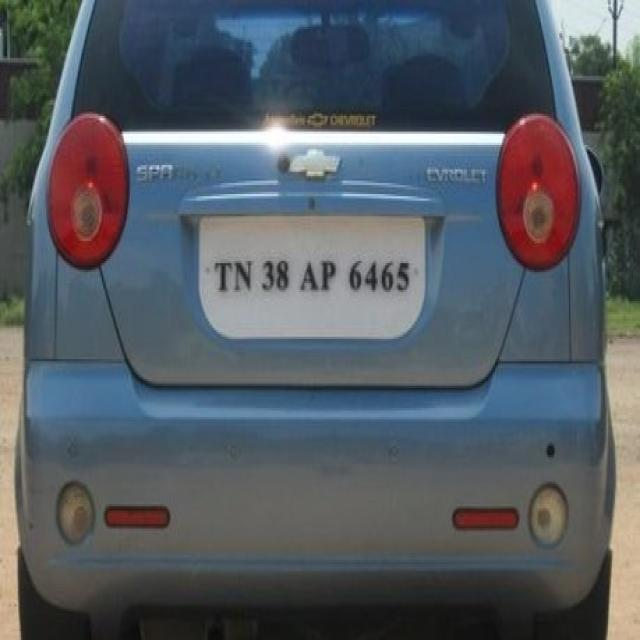number_plate: (200, 208, 431, 356)
